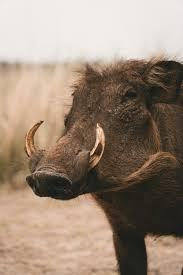wildboar: (20, 51, 183, 275)
